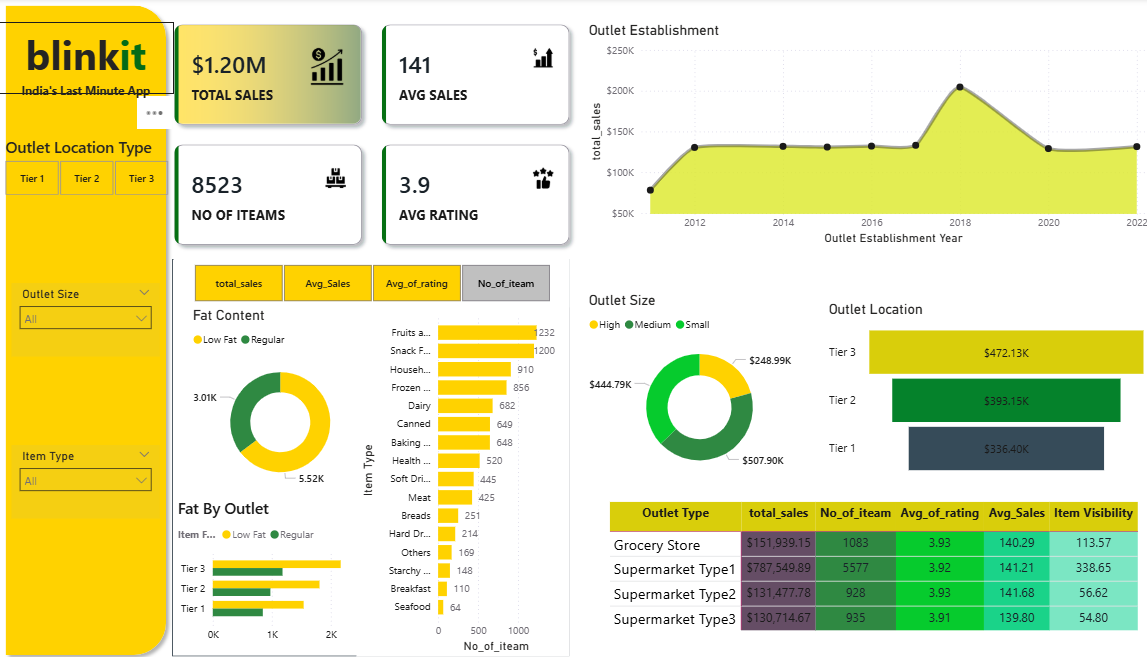

What the dashboard file says about the page in this screenshot:
{"tool":"powerbi","page":{"name":"Page 1","canvas":[1400,800],"ordinal":0},"visuals":[{"type":"shape","box":[10.8,0,211.5,800.6],"z":0},{"type":"textbox","box":[10.8,28.9,211.5,86.7],"z":1000},{"type":"textbox","box":[10.8,95.8,211.5,39.8],"z":2000},{"type":"cardVisual","fields":{"Data":["BlinkIT Grocery Data.total_sales","BlinkIT Grocery Data.Avg_Sales","BlinkIT Grocery Data.No_of_iteam","BlinkIT Grocery Data.Avg_of_rating"]},"box":[206,14.5,511.5,300],"z":3000},{"type":"shape","box":[220.5,314.5,478.9,478.9],"z":4000},{"type":"slicer","fields":{"Values":["Metric.Metric"]},"box":[222.3,314.5,477.1,57.8],"z":5000},{"type":"donutChart","title":"Fat Content","fields":{"Y":["BlinkIT Grocery Data.No_of_iteam"],"Category":["BlinkIT Grocery Data.Item Fat Content"]},"box":[240.4,372.3,220.5,229.5],"z":6000},{"type":"clusteredBarChart","title":"Fat By Outlet","fields":{"Y":["BlinkIT Grocery Data.No_of_iteam"],"Category":["BlinkIT Grocery Data.Outlet Location Type"],"Series":["BlinkIT Grocery Data.Item Fat Content"]},"box":[222.3,601.8,238.6,182.5],"z":7000},{"type":"barChart","title":"Item Type","fields":{"Y":["BlinkIT Grocery Data.No_of_iteam"],"Category":["BlinkIT Grocery Data.Item Type"]},"box":[442.8,372.3,256.6,421.1],"z":8000},{"type":"lineChart","title":"Outlet Establishment","fields":{"Y":["BlinkIT Grocery Data.total_sales"],"Category":["BlinkIT Grocery Data.Outlet Establishment Year"]},"box":[717.5,28.9,683.1,272.9],"z":9000},{"type":"donutChart","title":"Outlet Size","fields":{"Y":["BlinkIT Grocery Data.total_sales"],"Series":["BlinkIT Grocery Data.Outlet Size"]},"box":[717.5,354.2,276.5,229.5],"z":10000},{"type":"funnel","title":"Outlet Location","fields":{"Category":["BlinkIT Grocery Data.Outlet Location Type"],"Y":["BlinkIT Grocery Data.total_sales"]},"box":[1006.7,365.1,394,218.7],"z":11000},{"type":"pivotTable","fields":{"Values":["BlinkIT Grocery Data.total_sales","BlinkIT Grocery Data.No_of_iteam","BlinkIT Grocery Data.Avg_of_rating","BlinkIT Grocery Data.Avg_Sales","Sum(BlinkIT Grocery Data.Item Visibility)"],"Rows":["BlinkIT Grocery Data.Outlet Type"]},"box":[742.8,601.8,657.8,182.5],"z":12000},{"type":"slicer","fields":{"Values":["BlinkIT Grocery Data.Outlet Size"]},"box":[27.1,343.4,178.9,88.6],"z":13000},{"type":"slicer","fields":{"Values":["BlinkIT Grocery Data.Item Type"]},"box":[27.1,538.6,178.9,88.6],"z":14000},{"type":"advancedSlicerVisual","fields":{"Values":["BlinkIT Grocery Data.Outlet Location Type"]},"box":[19.9,166.3,197,75.9],"z":15000}]}

Visuals, with their boxes in screenshot pixels (x1, y1, x2, y2), scaled from the page's 1400x800 canvas onto the 1147x657 screenshot:
shape: box(9, 0, 182, 656)
textbox: box(9, 24, 182, 95)
textbox: box(9, 79, 182, 111)
cardVisual - BlinkIT Grocery Data.total_sales x BlinkIT Grocery Data.Avg_Sales: box(169, 12, 588, 258)
shape: box(181, 258, 573, 652)
slicer - Metric.Metric: box(182, 258, 573, 306)
"Fat Content" donutChart: box(197, 306, 378, 494)
"Fat By Outlet" clusteredBarChart: box(182, 494, 378, 644)
"Item Type" barChart: box(363, 306, 573, 652)
"Outlet Establishment" lineChart: box(588, 24, 1146, 248)
"Outlet Size" donutChart: box(588, 291, 814, 479)
"Outlet Location" funnel: box(825, 300, 1146, 479)
pivotTable - BlinkIT Grocery Data.total_sales x BlinkIT Grocery Data.No_of_iteam: box(609, 494, 1146, 644)
slicer - BlinkIT Grocery Data.Outlet Size: box(22, 282, 169, 355)
slicer - BlinkIT Grocery Data.Item Type: box(22, 442, 169, 515)
advancedSlicerVisual - BlinkIT Grocery Data.Outlet Location Type: box(16, 137, 178, 199)
